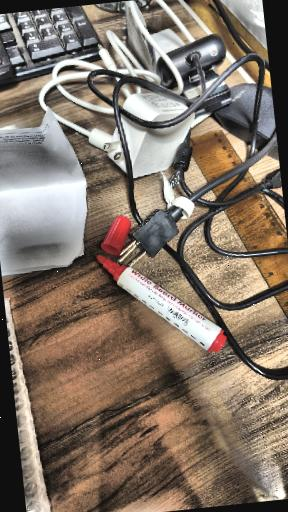marcador rojo: (96, 255, 226, 352)
